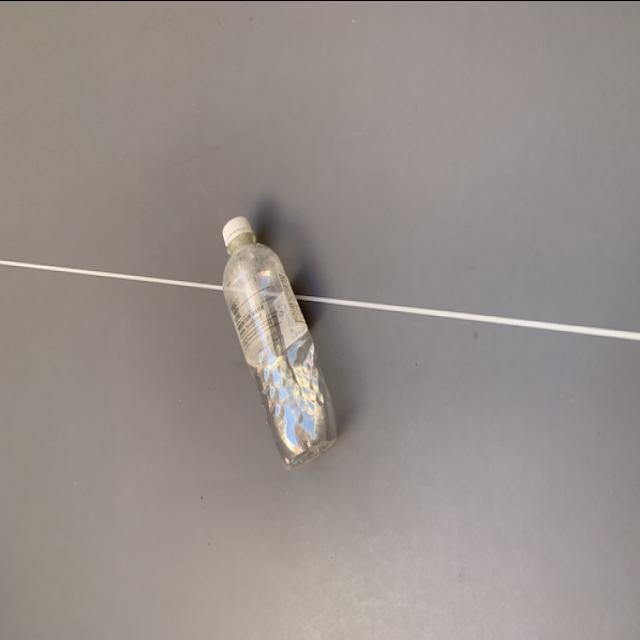PET: (218, 217, 342, 472)
